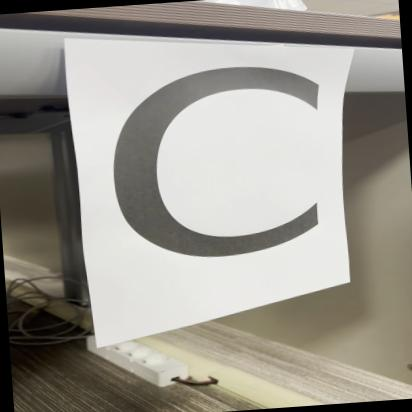seat: (70, 21, 366, 321)
